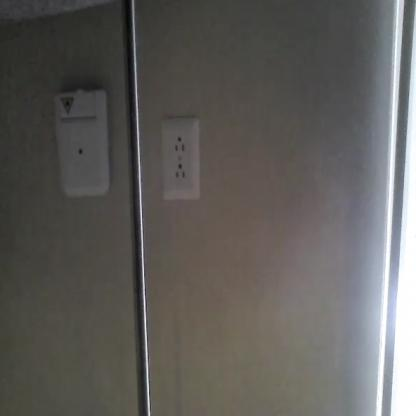OUTLET: (160, 116, 201, 202)
